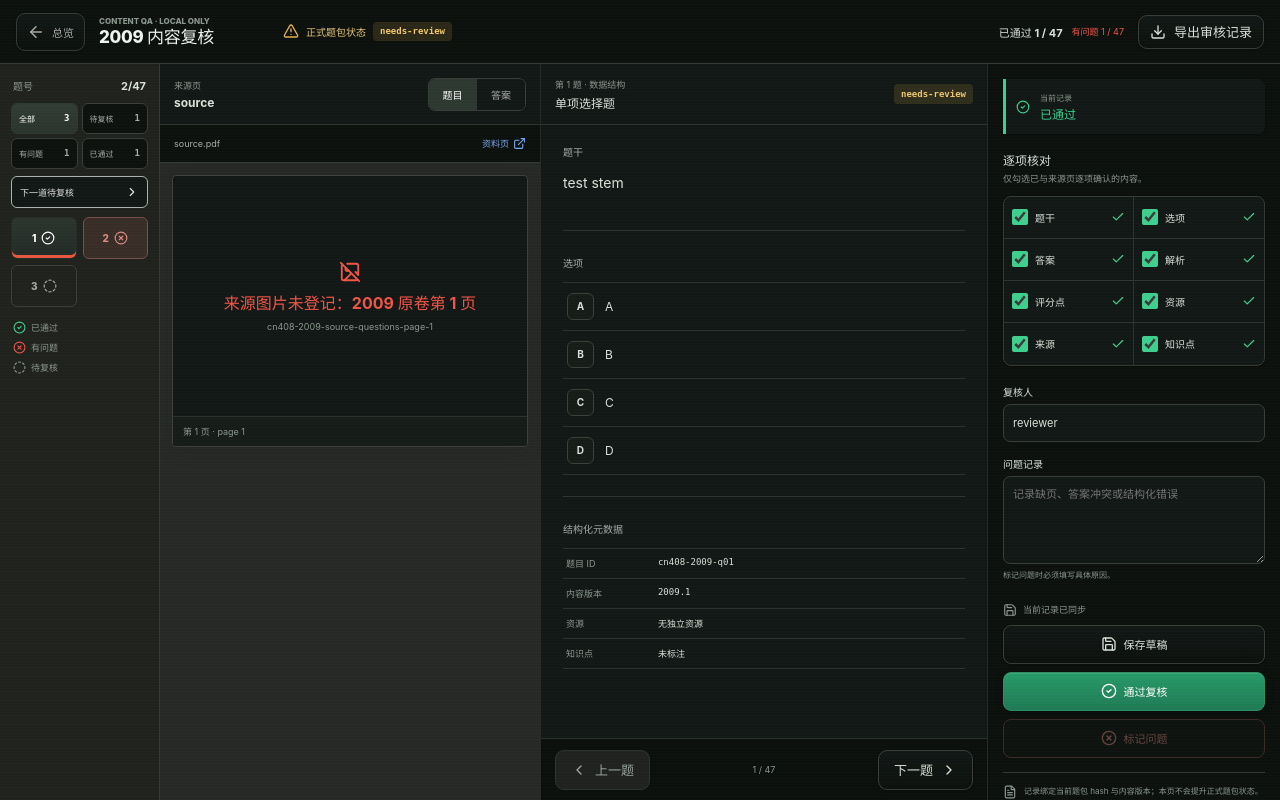
ContentReviewPage write ordering › filters the question palette by review decision and jumps to the next pending question
The image size is (1280, 800).
Click the button "待复核 1" at (115, 118), box [82,103,148,134]
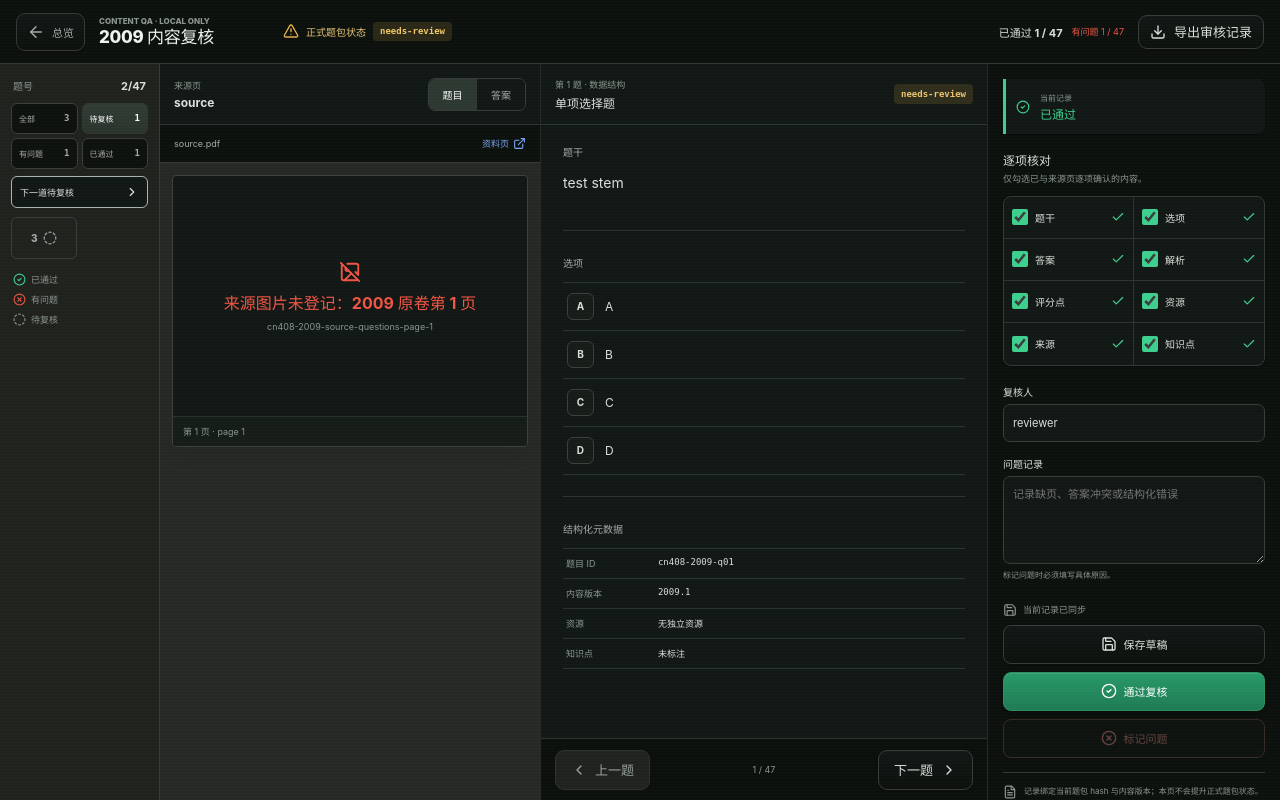
Check: the button named "第 3 题" is shown, box [11,217,76,259]
Click the button "下一道待复核" at (80, 192), box [11,176,148,208]
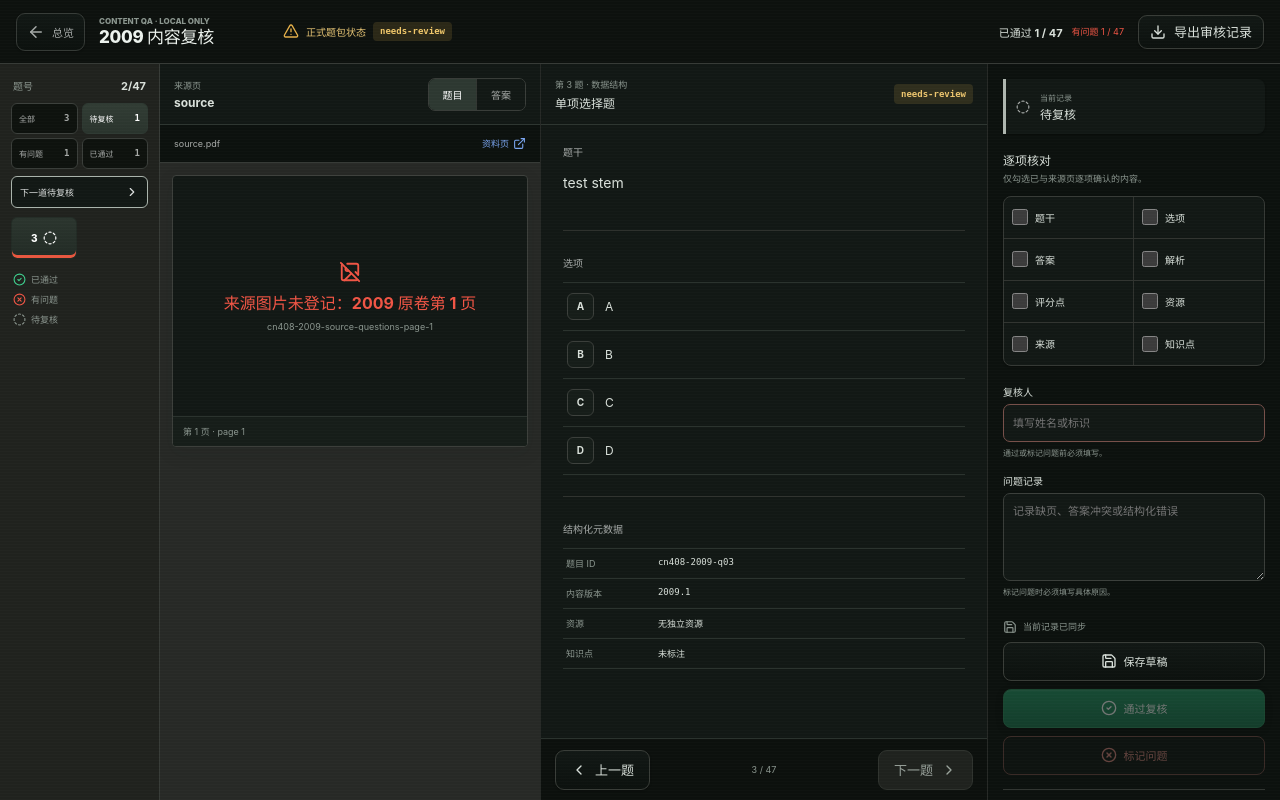
Check: the text "3 / 47" is shown, box [752,764,776,775]
